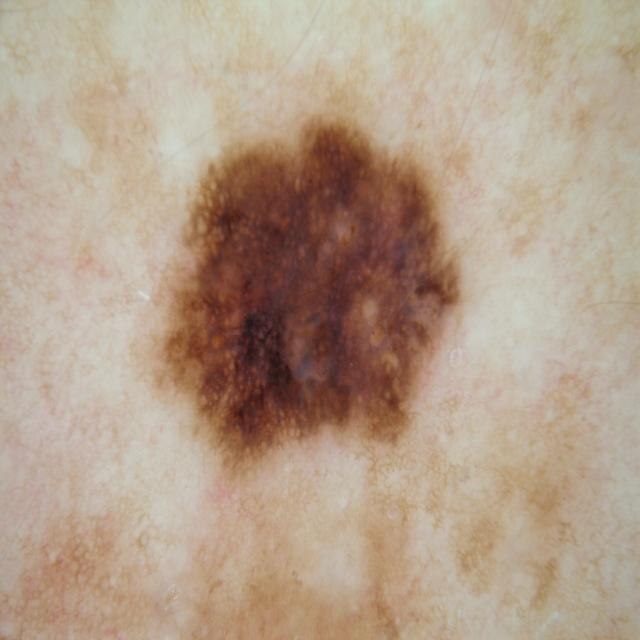Skin-Cancer Melanoma: (63, 42, 584, 629)
